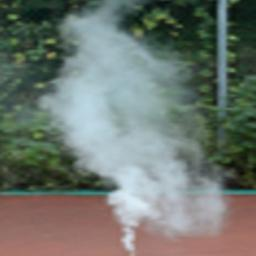smoke: (38, 0, 226, 255)
